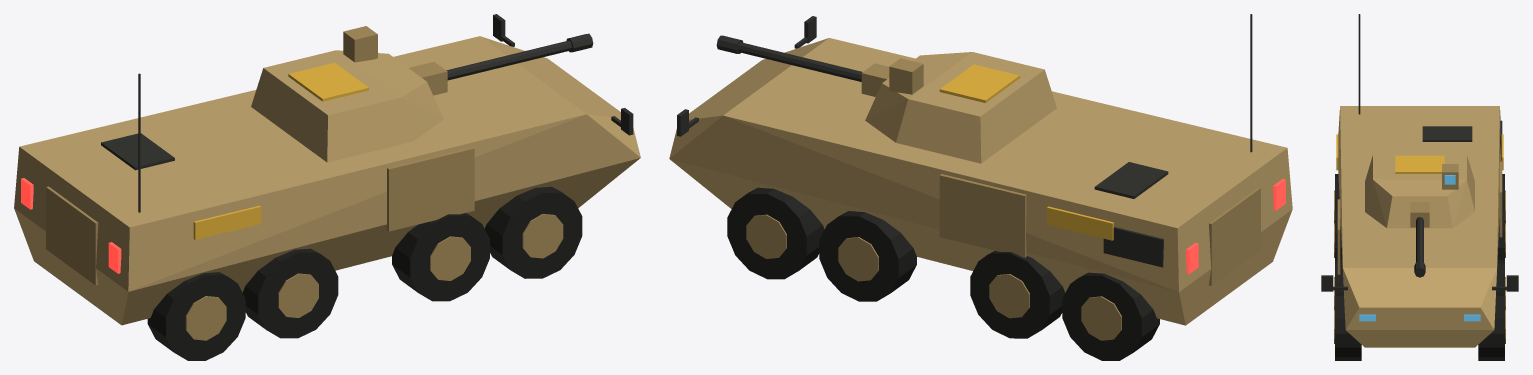
File: apc.glb
The picture shows the model from 3 angles, left to right: view 1: azimuth 30°, elevation 25°; view 2: azimuth 150°, elevation 25°; view 3: azimuth 270°, elevation 25°; orthographic projection. The views are drawn at different scales.
Parts seen in each view (by area): view 1: Hull, Turret, TeamColor; view 2: Hull, Turret, TeamColor; view 3: Hull, Turret, TeamColor.
Part boxes in pixels (x1=…): Hull: x1=14, y1=14, x2=640, y2=360; Turret: x1=251, y1=26, x2=593, y2=162; TeamColor: x1=193, y1=62, x2=368, y2=239; Hull: x1=669, y1=14, x2=1292, y2=360; Turret: x1=716, y1=35, x2=1056, y2=163; TeamColor: x1=939, y1=64, x2=1113, y2=240; Hull: x1=1321, y1=14, x2=1518, y2=360; Turret: x1=1365, y1=154, x2=1474, y2=277; TeamColor: x1=1336, y1=134, x2=1503, y2=173.
Size of the model in its own units: 7.91 by 4.15 by 3.58.
